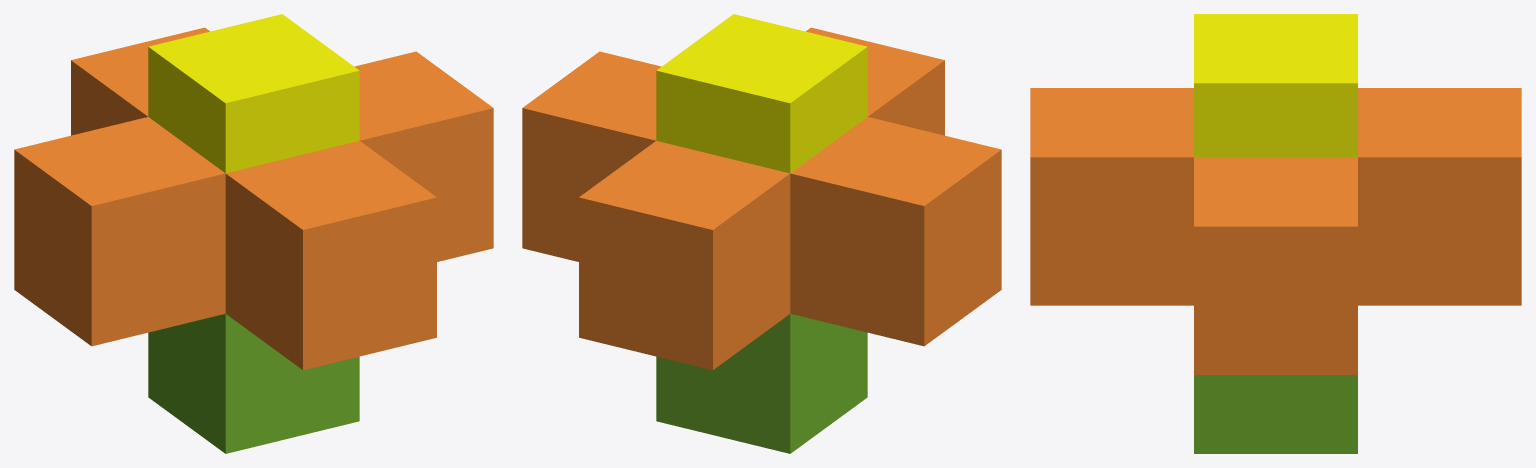
Rendered from flower.gltf.
The picture shows the model from 3 angles, left to right: view 1: azimuth 30°, elevation 25°; view 2: azimuth 150°, elevation 25°; view 3: azimuth 270°, elevation 25°; orthographic projection. The views are drawn at different scales.
Visible parts, largest first — view 1: cube (×6); view 2: cube (×6); view 3: cube (×5).
Boxes of the visible parts, x1,y1,x2,y2 form: cube (×6): (14,14,493,453); cube (×6): (522,14,1001,453); cube (×5): (1030,14,1521,453).
Bounding box in the file's own units: 0.375 × 0.3125 × 0.375.
1 material, 1 textured.
